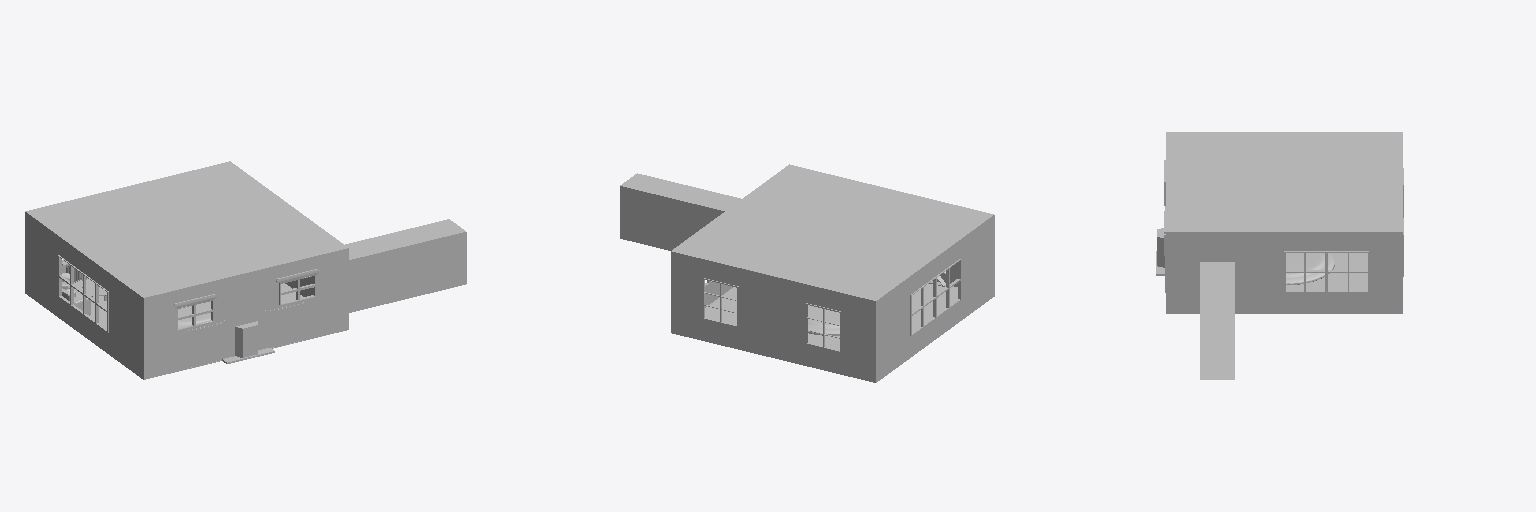
File: Environment - LoRes.obj
The picture shows the model from 3 angles: view 1: azimuth 30°, elevation 25°; view 2: azimuth 150°, elevation 25°; view 3: azimuth 270°, elevation 25°; orthographic projection.
Parts seen in each view (by area): view 1: Room.002_Cube.007, Plane, Room.001_Cube.008, WindowSill.002_Cube.019; view 2: Room.002_Cube.007, WindowSill.002_Cube.019, Plateau_Circle.005; view 3: Room.002_Cube.007, Plateau_Circle.005, WindowSill.001_Cube.018.
Boxes of the visible parts, x1=… form: Room.002_Cube.007: x1=25, y1=161, x2=466, y2=379; Plane: x1=224, y1=310, x2=268, y2=358; Room.001_Cube.008: x1=174, y1=269, x2=319, y2=330; WindowSill.002_Cube.019: x1=58, y1=255, x2=108, y2=332; Room.002_Cube.007: x1=620, y1=164, x2=994, y2=382; WindowSill.002_Cube.019: x1=910, y1=259, x2=961, y2=335; Plateau_Circle.005: x1=808, y1=305, x2=839, y2=335; Room.002_Cube.007: x1=1166, y1=132, x2=1402, y2=379; Plateau_Circle.005: x1=1286, y1=253, x2=1334, y2=284; WindowSill.001_Cube.018: x1=1284, y1=251, x2=1368, y2=292.
Bounding box in the file's own units: 31.98 × 7.34 × 20.1.